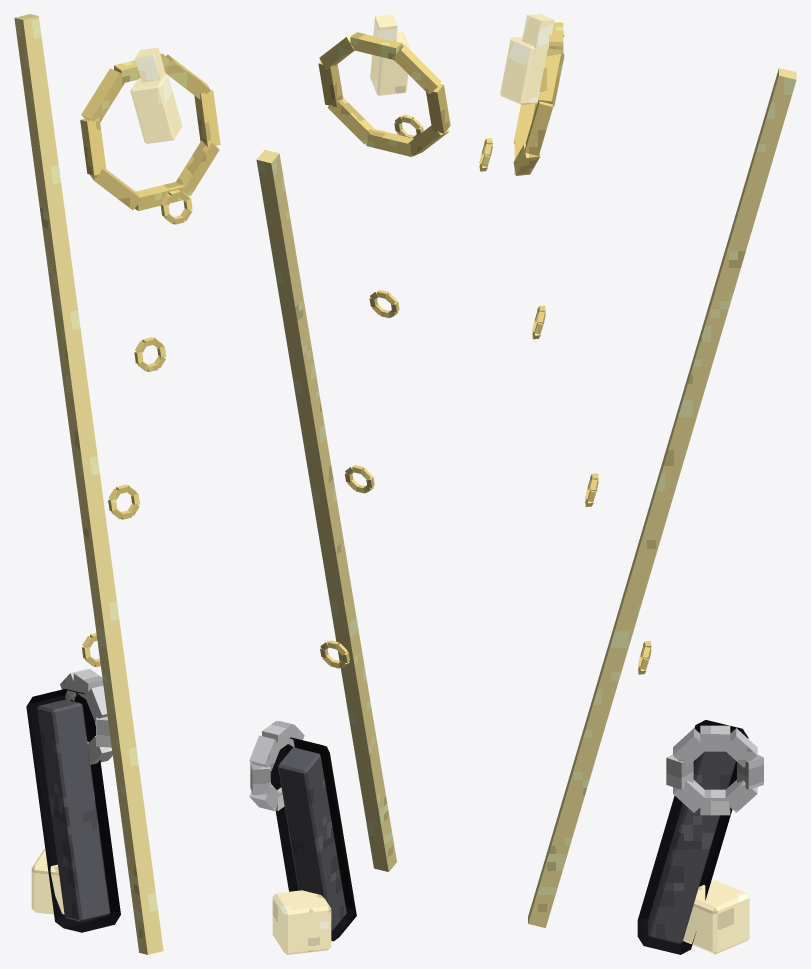
File: equip_rod_7.glb
The picture shows the model from 3 angles, left to right: view 1: azimuth 30°, elevation 25°; view 2: azimuth 150°, elevation 25°; view 3: azimuth 270°, elevation 25°; orthographic projection. The views are drawn at different scales.
Visible parts, largest first — view 1: model; view 2: model; view 3: model.
Part boxes in pixels (x1=…): model: x1=14, y1=14, x2=220, y2=954; model: x1=249, y1=14, x2=450, y2=954; model: x1=479, y1=14, x2=796, y2=954.
Size of the model in its own units: 0.3329 by 2.33 by 0.7201.
Materials: 6 (5 with a texture image).
